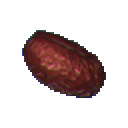ng: (18, 26, 111, 102)
